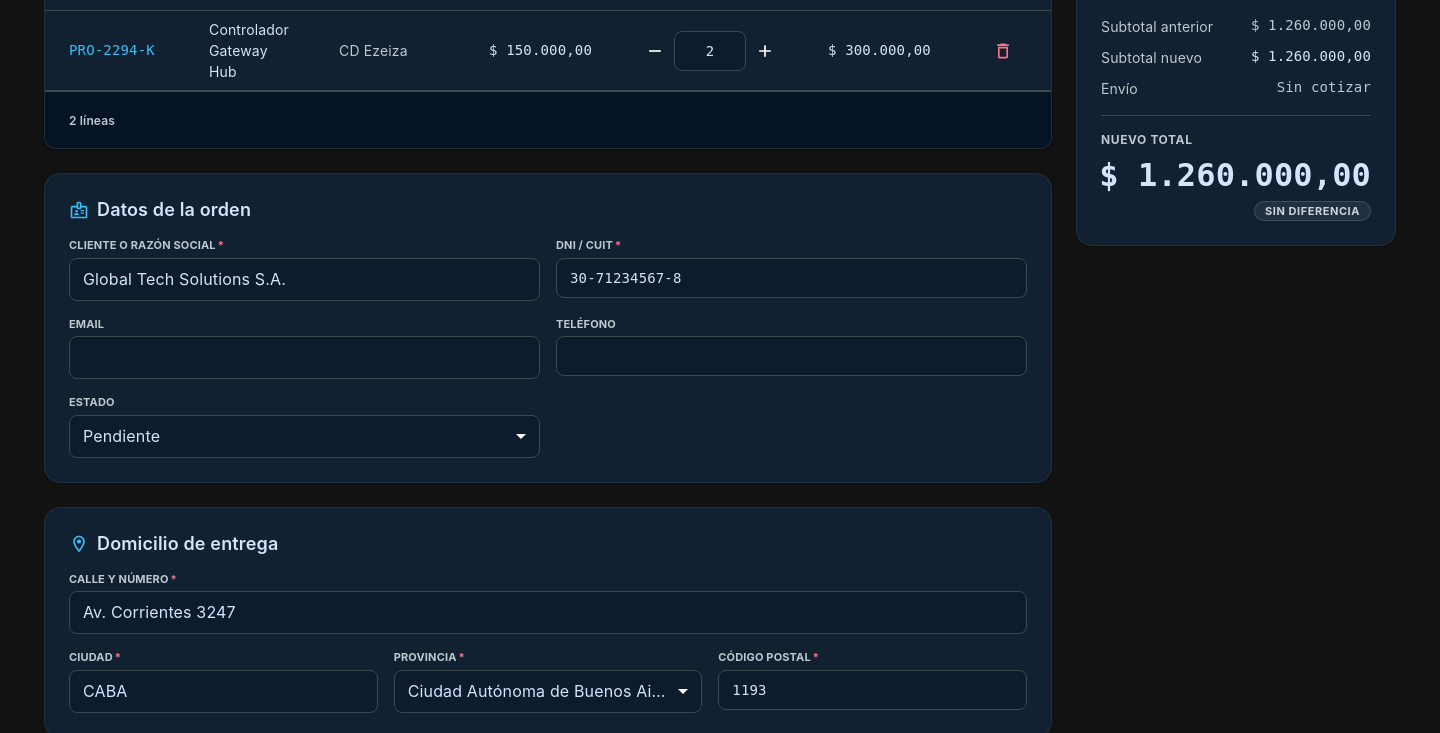
it: OrderEditPage › shows the chosen status in the header before saving
(page scrolled)
Press the mouse on the dropdown named "Estado" at (122, 436), box x1=83 y1=426 x2=160 y2=446
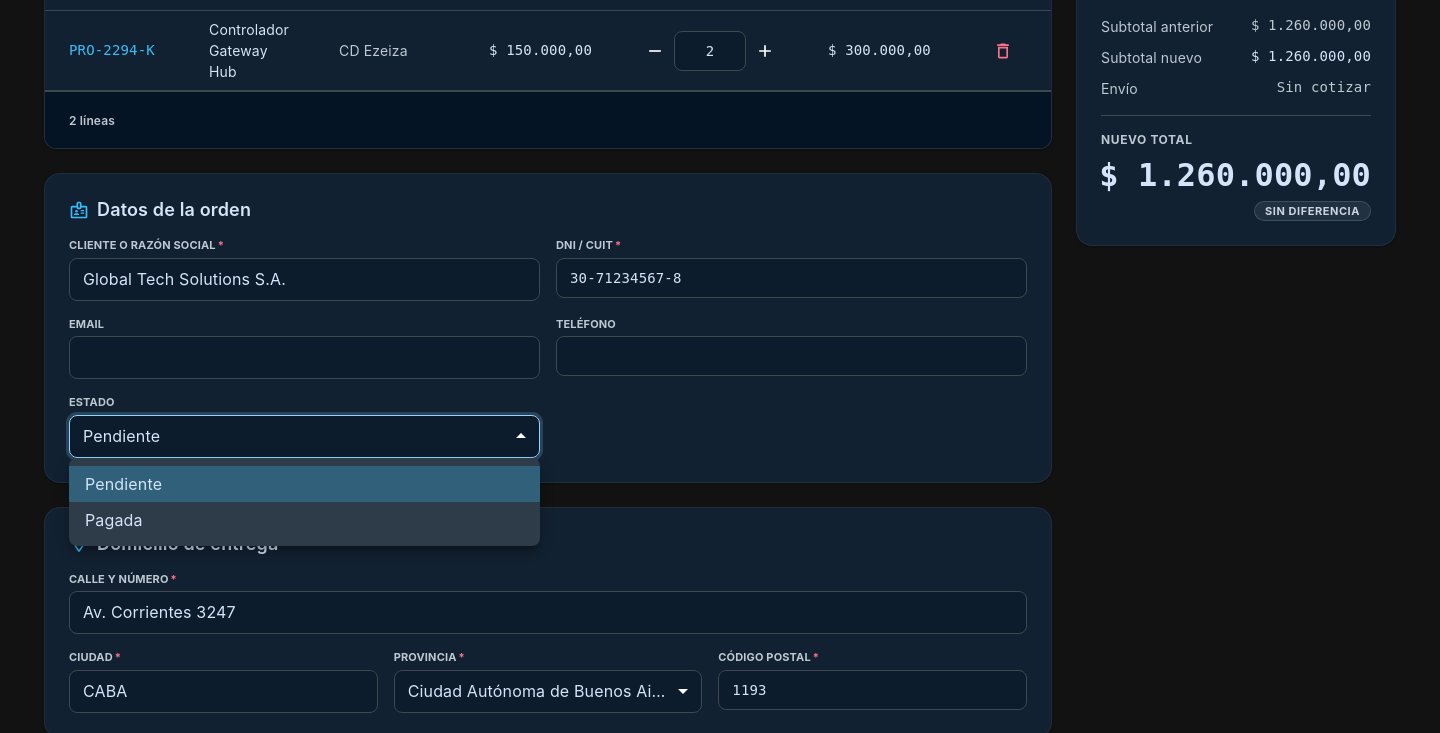
Click the option "Pagada" at (114, 520), box x1=85 y1=510 x2=143 y2=530
(page scrolled)
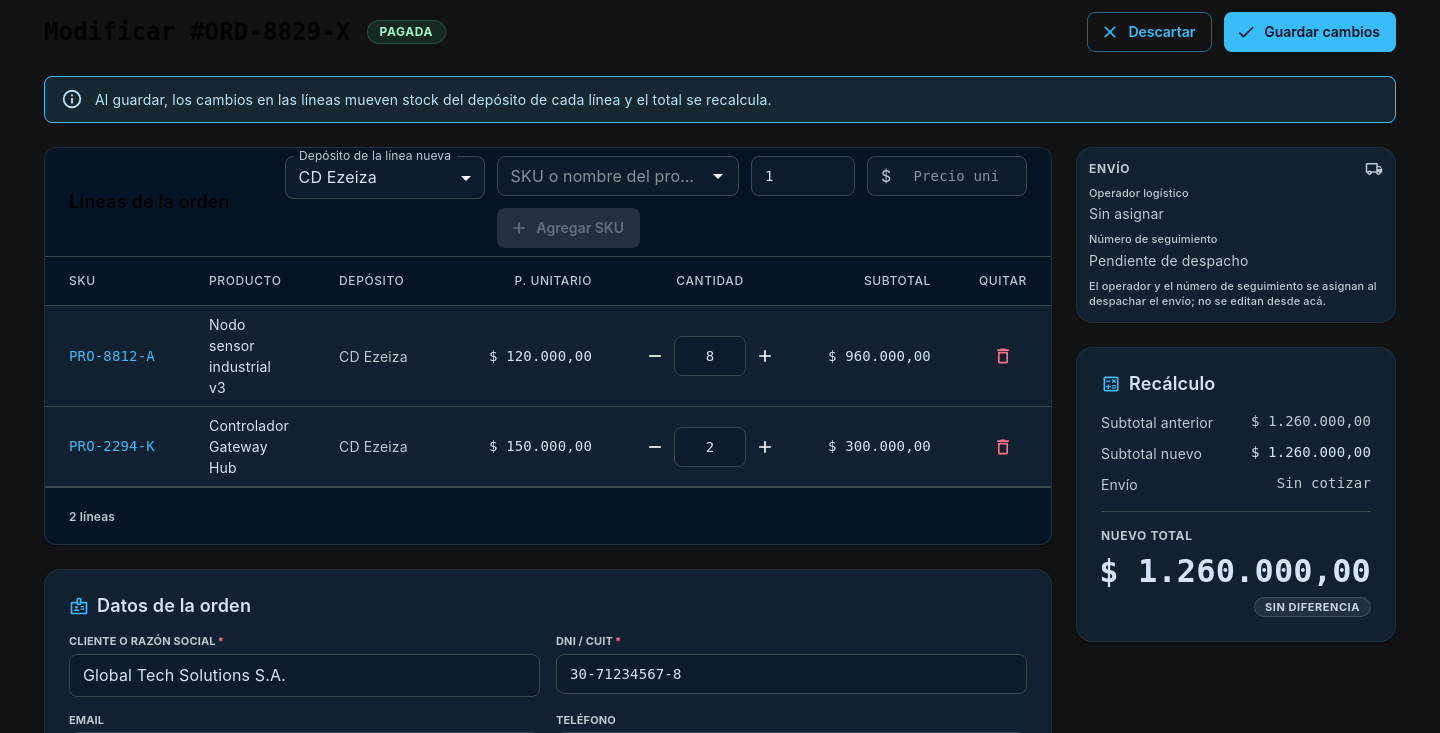
Check: the text "Pagada" is shown, box x1=367 y1=20 x2=446 y2=44
